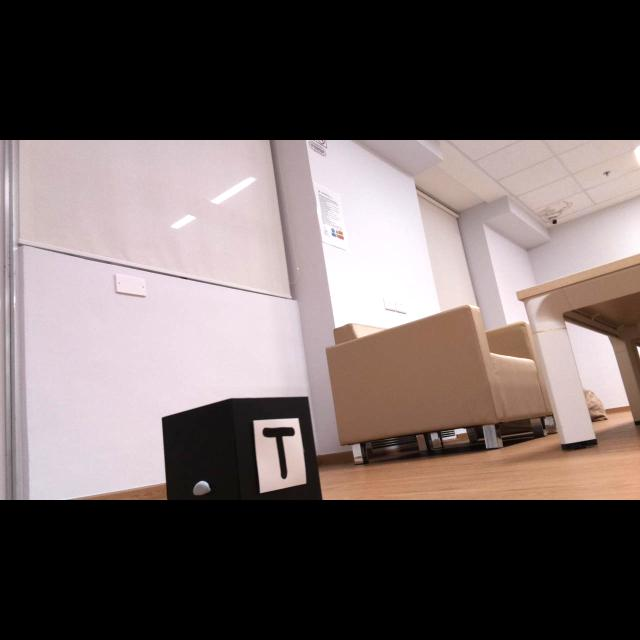T: (263, 427, 295, 479)
